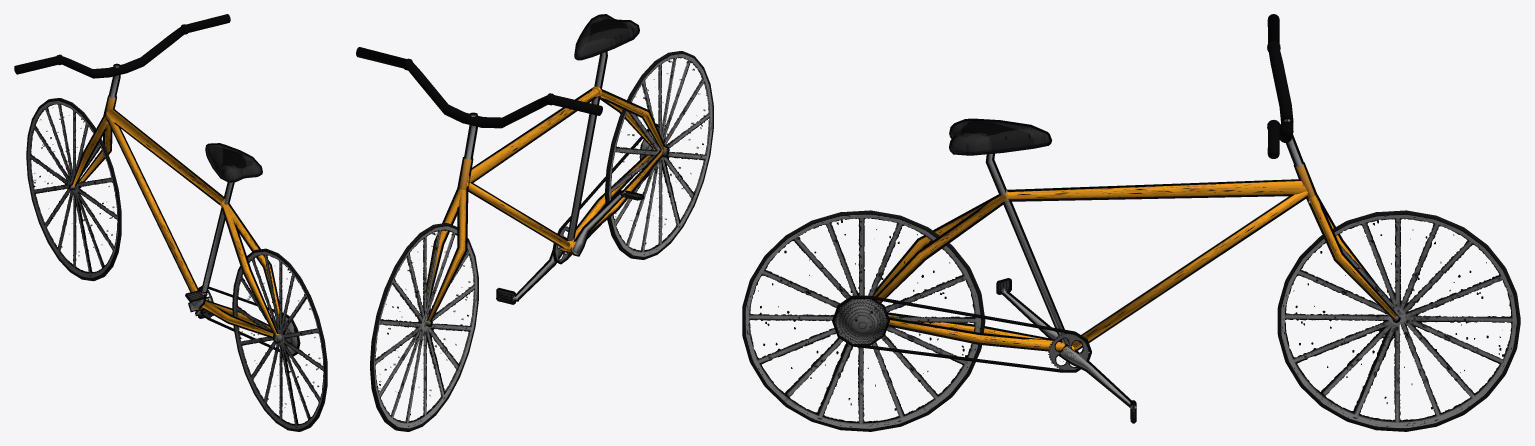
File: bike.obj
3 views of the same model, side by side, from view 1: azimuth 30°, elevation 25°; view 2: azimuth 150°, elevation 25°; view 3: azimuth 270°, elevation 25° (orthographic). The views are drawn at different scales.
Visible parts, largest first — view 1: bike_body_Cylinder, wheels_Cylinder.001; view 2: bike_body_Cylinder, wheels_Cylinder.001; view 3: wheels_Cylinder.001, bike_body_Cylinder.
Boxes of the visible parts, bbox=[...] form: bike_body_Cylinder: bbox=[14, 14, 300, 356]; wheels_Cylinder.001: bbox=[26, 98, 327, 431]; bike_body_Cylinder: bbox=[356, 14, 669, 326]; wheels_Cylinder.001: bbox=[370, 51, 713, 431]; wheels_Cylinder.001: bbox=[742, 210, 1520, 431]; bike_body_Cylinder: bbox=[832, 14, 1400, 423].
Size of the model in its own units: 2.69 by 3.26 by 6.57.
